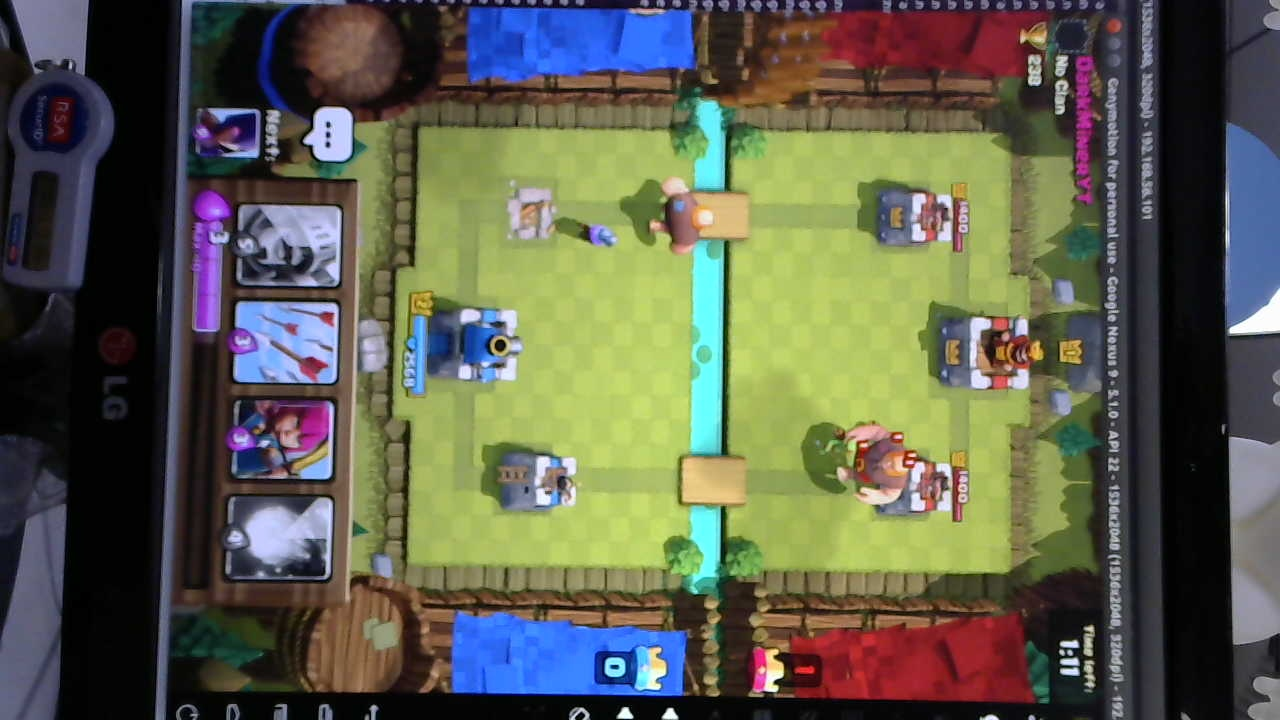arena: (493, 446, 580, 514)
darena: (503, 180, 559, 246)
earena: (872, 188, 958, 248), (881, 455, 953, 514)
eking: (936, 312, 1039, 390)
giant: (842, 423, 914, 505), (650, 178, 712, 255)
king: (429, 307, 518, 385)
musketeer: (565, 218, 625, 252)
speargoblin: (818, 428, 863, 462)
